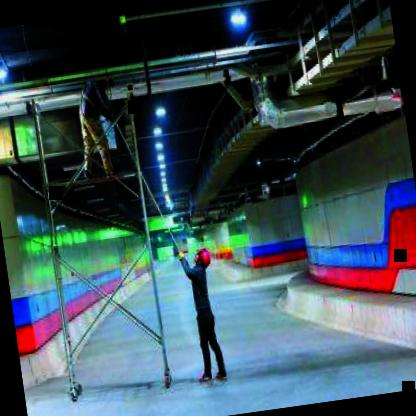helmet: (191, 242, 216, 272)
